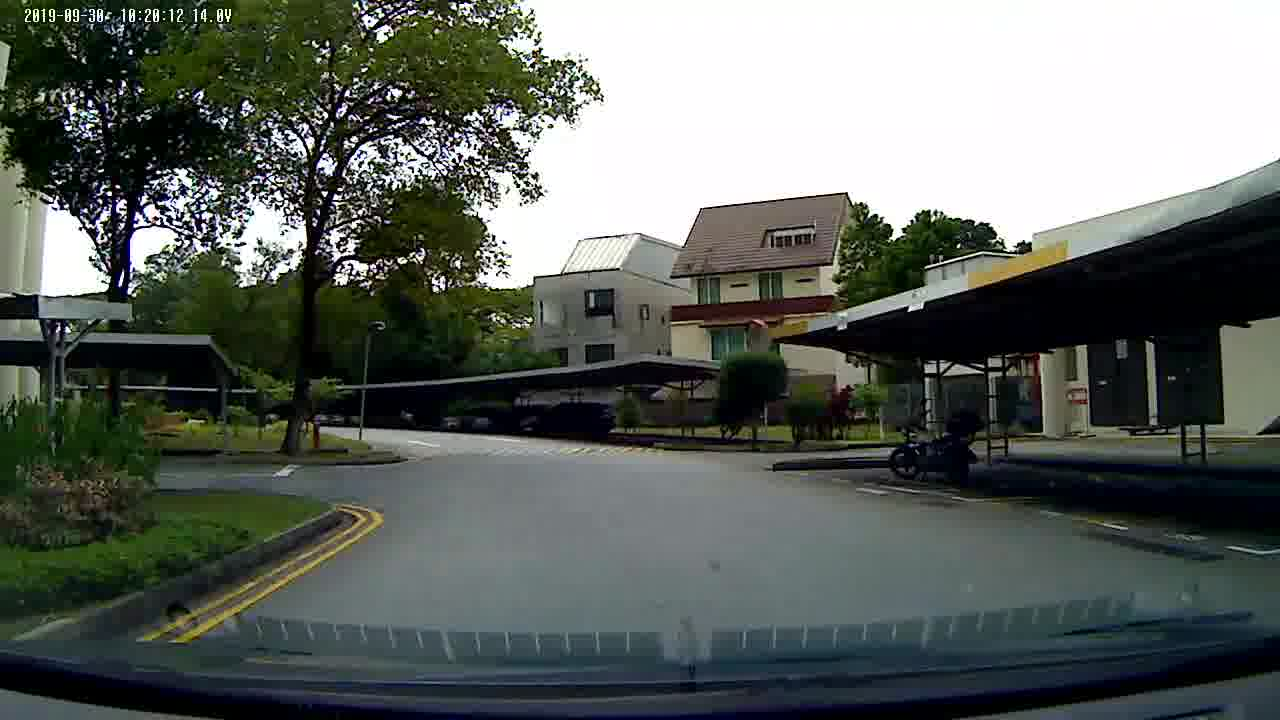car: (514, 399, 617, 447)
